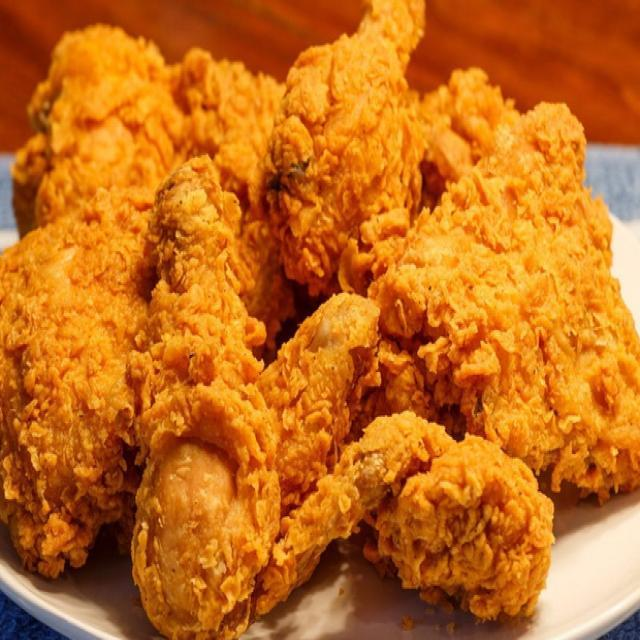ayam_goreng: (4, 8, 618, 614)
